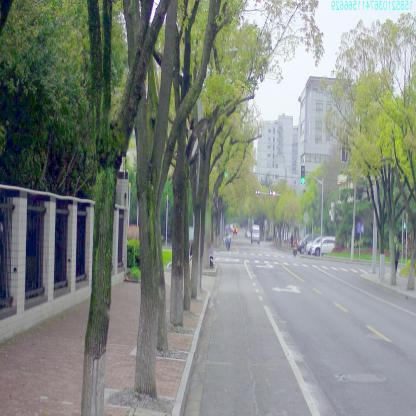traffic-light: (224, 157, 228, 178), (301, 165, 305, 184)
